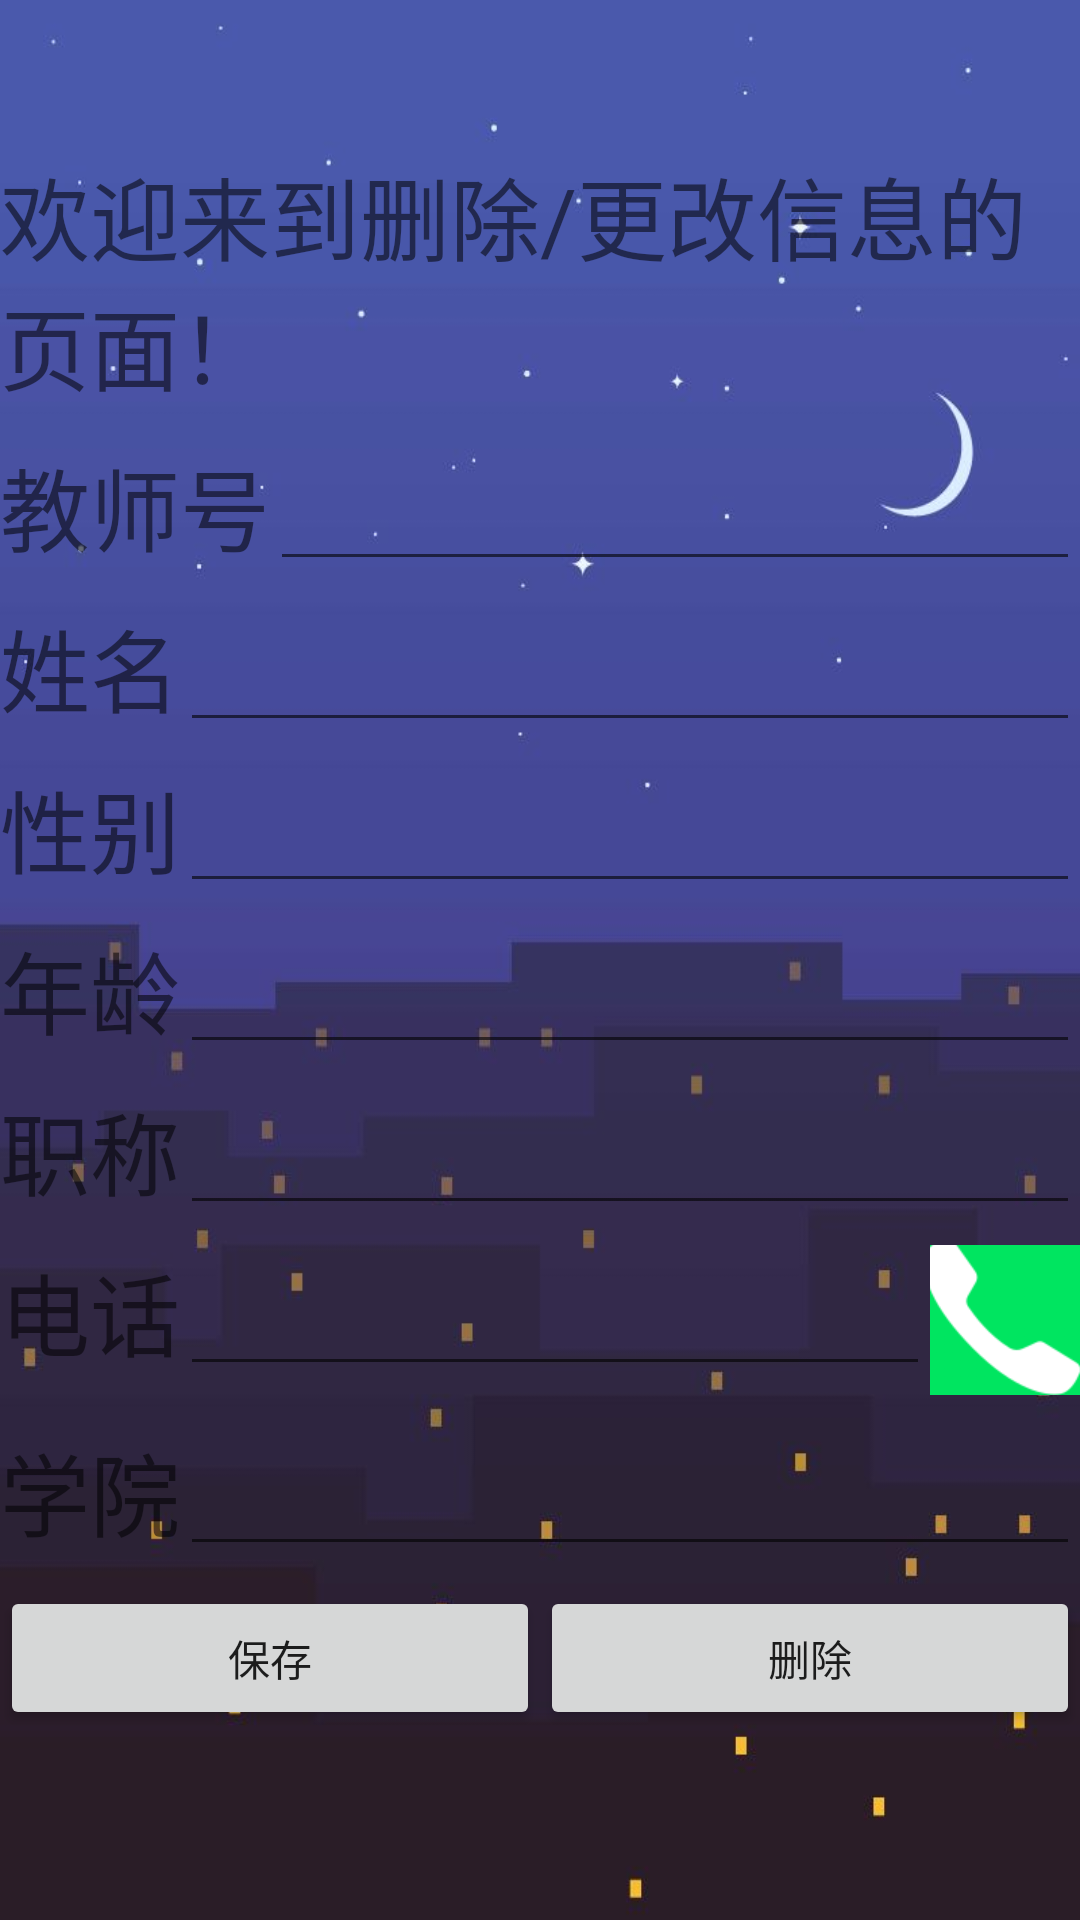

Where to tap for icons on this 1080px×1920px app screen, as [x,y]:
dianhua: [1005,1320]
